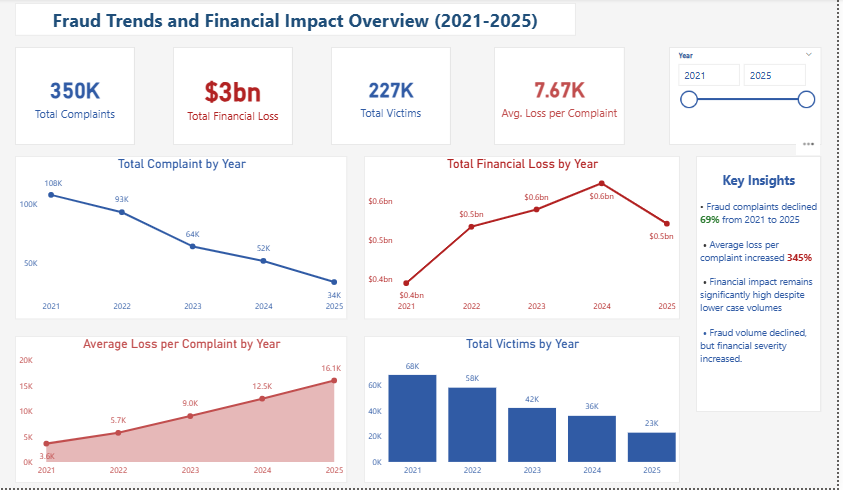

This screenshot's page, from the dashboard's own definition file:
{"tool":"powerbi","page":{"name":"Executive Fraud Overview","canvas":[1230,720],"ordinal":0},"visuals":[{"type":"card","fields":{"Values":["Fraud_Complaints.Total Complaints"]},"box":[24,72,176,144],"z":1000},{"type":"card","fields":{"Values":["Fraud_Complaints.Total Financial Loss"]},"box":[256,72,176,144],"z":2000},{"type":"card","fields":{"Values":["Fraud_Complaints.Total Victims"]},"box":[488,72,176,144],"z":3000},{"type":"card","fields":{"Values":["Fraud_Complaints.Average Loss per Complaint"]},"box":[728,72,192,144],"z":5000},{"type":"lineChart","title":"Total Complaint by Year ","fields":{"Category":["Date_Table.Year"],"Y":["Fraud_Complaints.Total Complaints"]},"box":[24,232,488,240],"z":6000},{"type":"lineChart","fields":{"Category":["Date_Table.Year"],"Y":["Fraud_Complaints.Total Financial Loss"]},"box":[536,232,464,240],"z":7000},{"type":"columnChart","fields":{"Category":["Date_Table.Year"],"Y":["Fraud_Complaints.Total Victims"]},"box":[536,496,464,216],"z":8000},{"type":"areaChart","fields":{"Category":["Date_Table.Year"],"Y":["Fraud_Complaints.Average Loss per Complaint"]},"box":[24,496,488,216],"z":9000},{"type":"slicer","fields":{"Values":["Fraud_Complaints.Year"]},"box":[984,72,224,144],"z":10000},{"type":"textbox","box":[1024,232,184,376],"z":12000},{"type":"textbox","box":[24,8,824,48],"z":14000}]}

Visuals, with their boxes in screenshot pixels (x1, y1, x2, y2), scaled from the page's 1230x720 canvas onto the 843x490 screenshot:
card - Fraud_Complaints.Total Complaints: 16/49/137/147
card - Fraud_Complaints.Total Financial Loss: 175/49/296/147
card - Fraud_Complaints.Total Victims: 334/49/455/147
card - Fraud_Complaints.Average Loss per Complaint: 499/49/631/147
"Total Complaint by Year " lineChart: 16/158/351/321
lineChart - Date_Table.Year x Fraud_Complaints.Total Financial Loss: 367/158/685/321
columnChart - Date_Table.Year x Fraud_Complaints.Total Victims: 367/338/685/485
areaChart - Date_Table.Year x Fraud_Complaints.Average Loss per Complaint: 16/338/351/485
slicer - Fraud_Complaints.Year: 674/49/828/147
textbox: 702/158/828/414
textbox: 16/5/581/38
